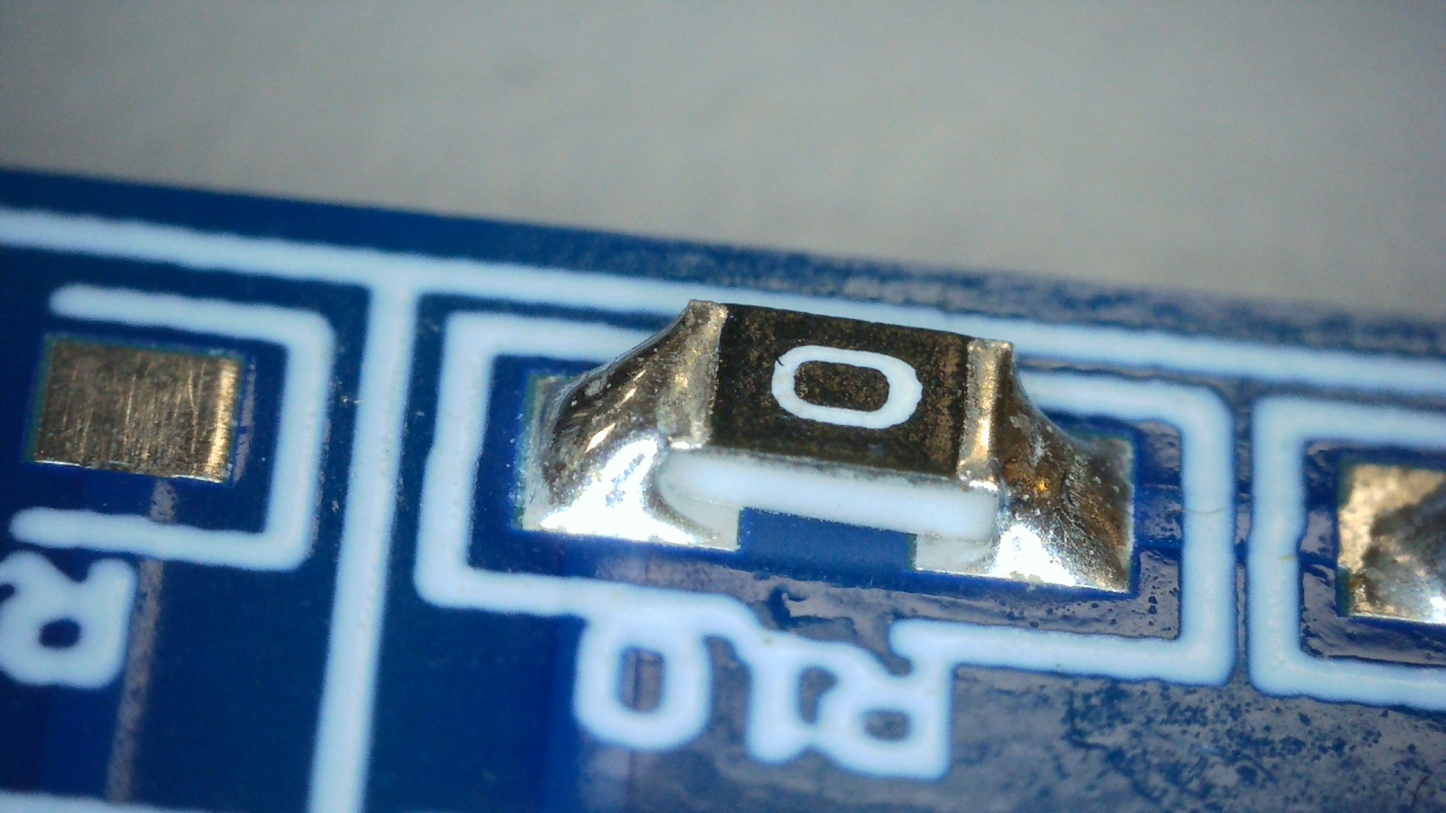NG: (538, 300, 717, 518)
OK: (956, 338, 1131, 593)
